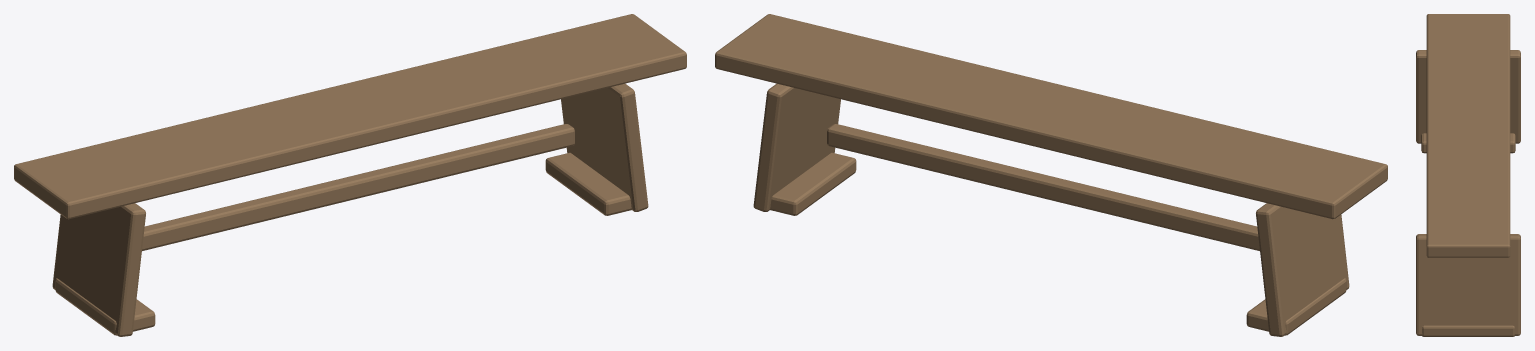
Rendered from monastery_refectory_bench.glb.
The picture shows the model from 3 angles, left to right: view 1: azimuth 30°, elevation 25°; view 2: azimuth 150°, elevation 25°; view 3: azimuth 270°, elevation 25°; orthographic projection. The views are drawn at different scales.
Visible parts, largest first — view 1: world; view 2: world; view 3: world.
Boxes of the visible parts, box(x1,y1,x2,y2) form: world: box(14, 14, 686, 336); world: box(715, 14, 1387, 336); world: box(1416, 14, 1520, 336).
Size of the model in its own units: 2 by 0.438 by 0.3809.
